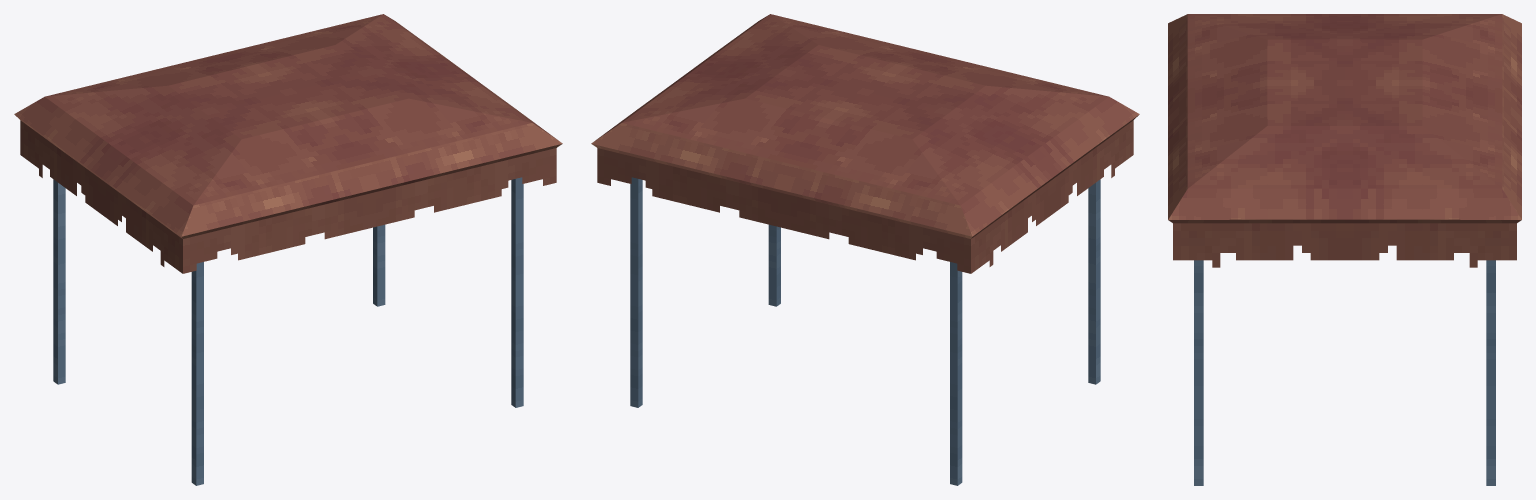
File: canopy.fbx
3 renders of one model, left to right at view 1: azimuth 30°, elevation 25°; view 2: azimuth 150°, elevation 25°; view 3: azimuth 270°, elevation 25°, orthographic. The views are drawn at different scales.
Visible parts, largest first — view 1: Cube; view 2: Cube; view 3: Cube.
Part boxes in pixels (left/top/right/bottom): Cube: left=14, top=14, right=562, bottom=485; Cube: left=591, top=14, right=1139, bottom=485; Cube: left=1168, top=14, right=1521, bottom=485.
Bounding box in the file's own units: 955 × 726 × 722.
1 material, 1 textured.
